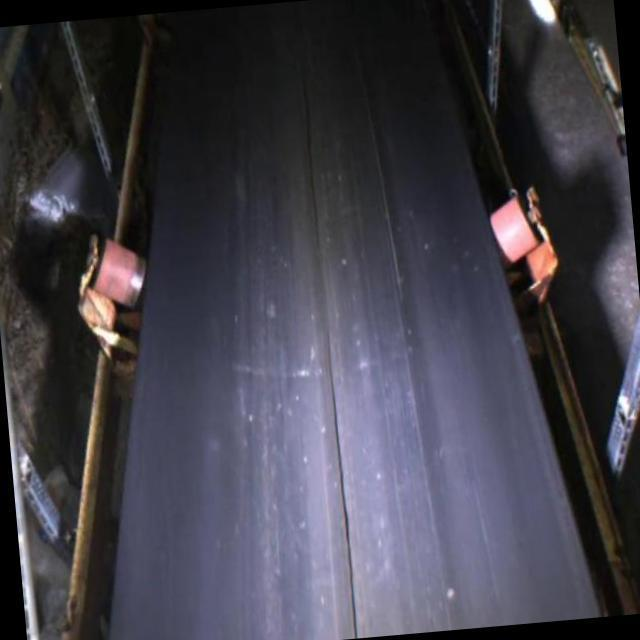Tear: (288, 43, 368, 640)
